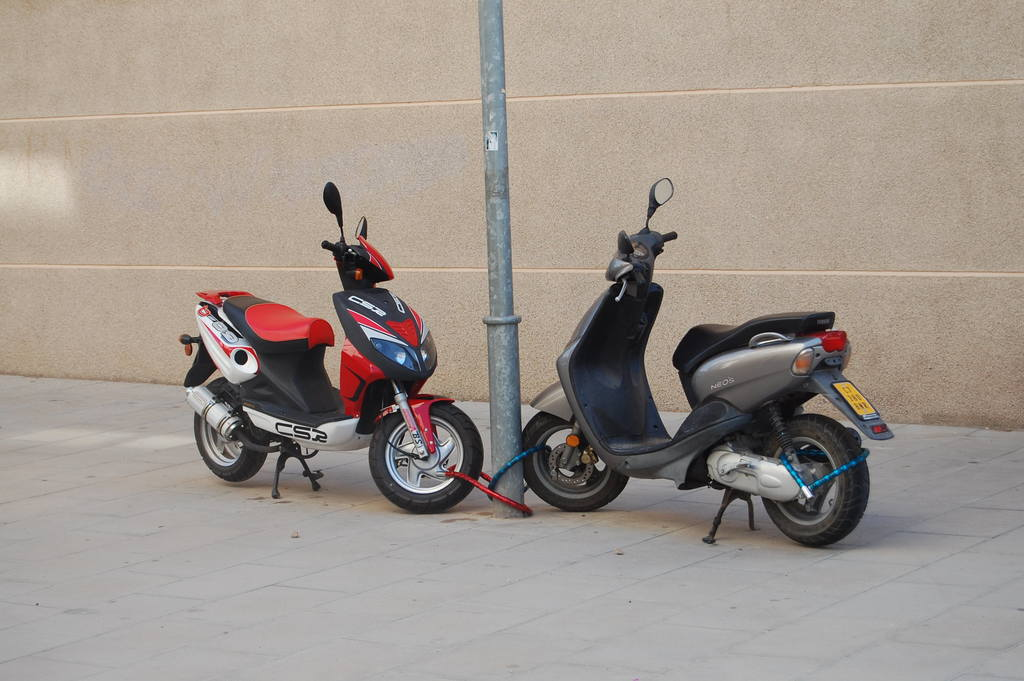Motorcycle: (189, 201, 485, 511)
